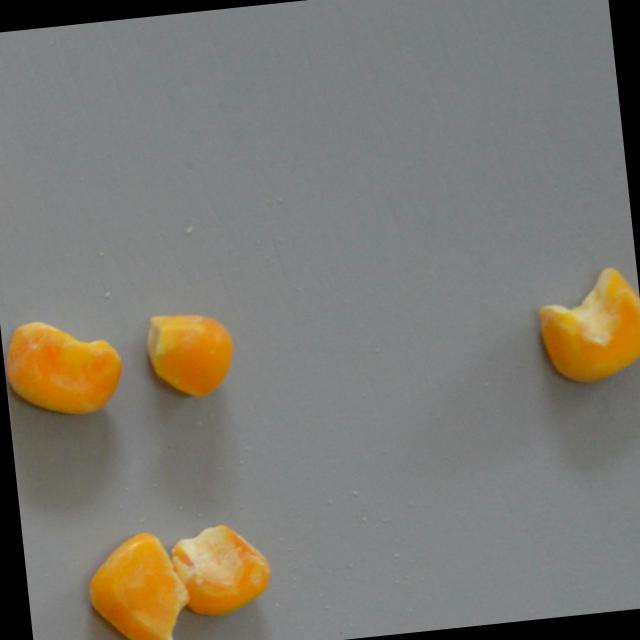no_canjicado: (143, 307, 238, 403)
pelicula: (0, 312, 127, 424), (527, 266, 640, 389), (78, 529, 195, 640), (168, 520, 275, 622)
